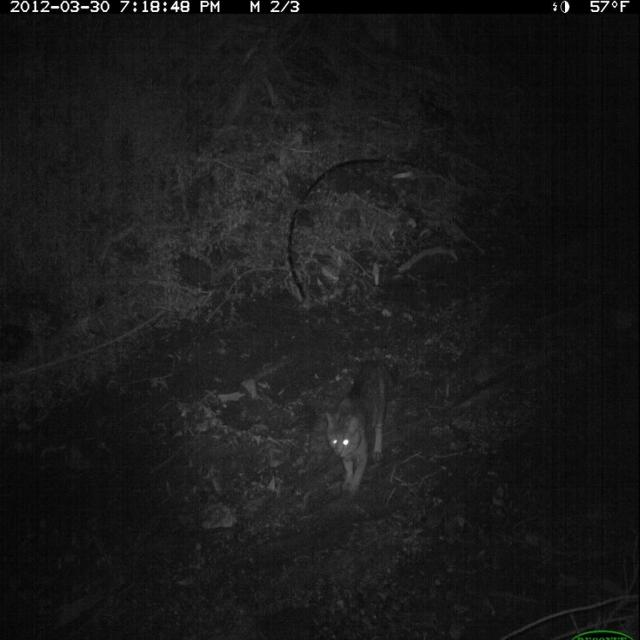cat: (313, 346, 407, 508)
